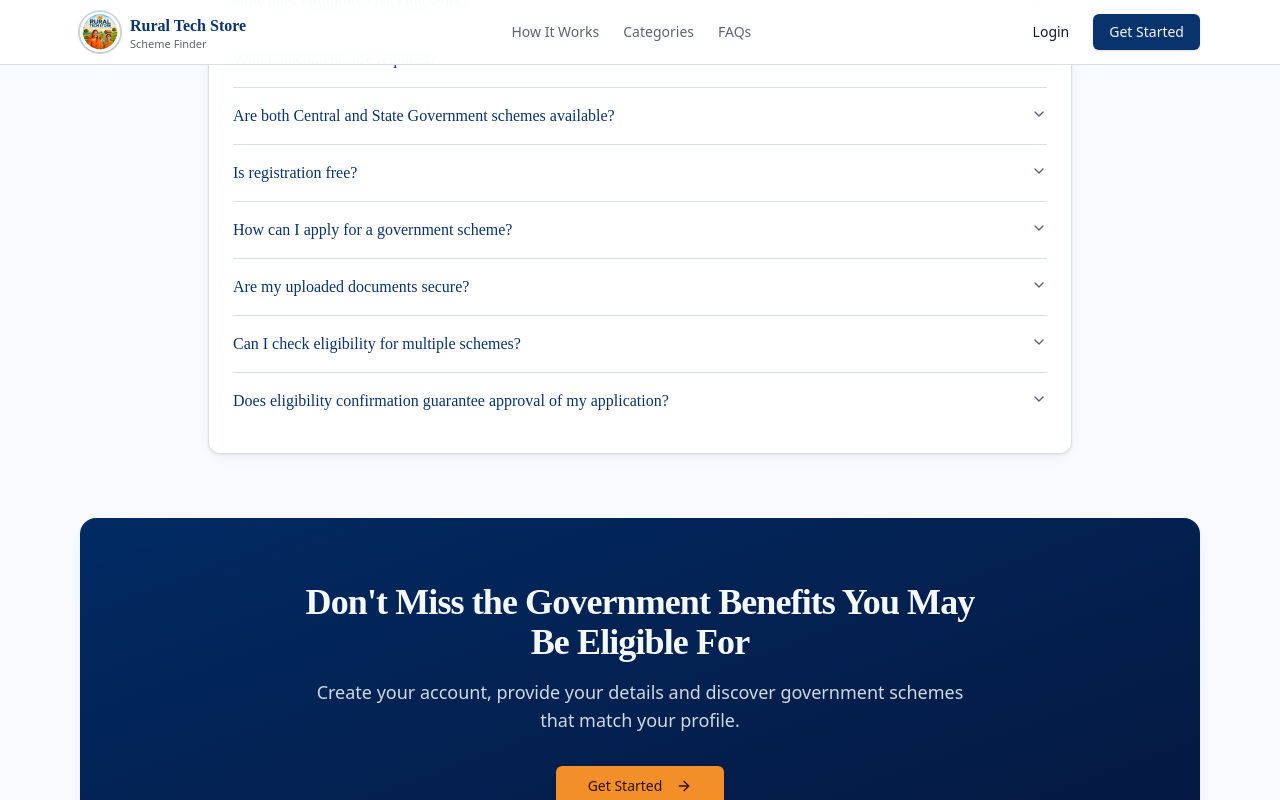
Test: Homepage Enhancement & Public Scheme Browsing › renders all 10 FAQ accordions, Final CTA without Explore Schemes, and Footer with Cookies
(page scrolled)
Expected: the button "Which documents are required?" is shown, [233,30,1047,86]
Expected: the button "Are both Central and State Government schemes available?" is shown, [233,88,1047,144]
Click the button "Does eligibility confirmation guarantee approval of my application?".
click(640, 400)  # box [233,372,1047,428]
(page scrolled)
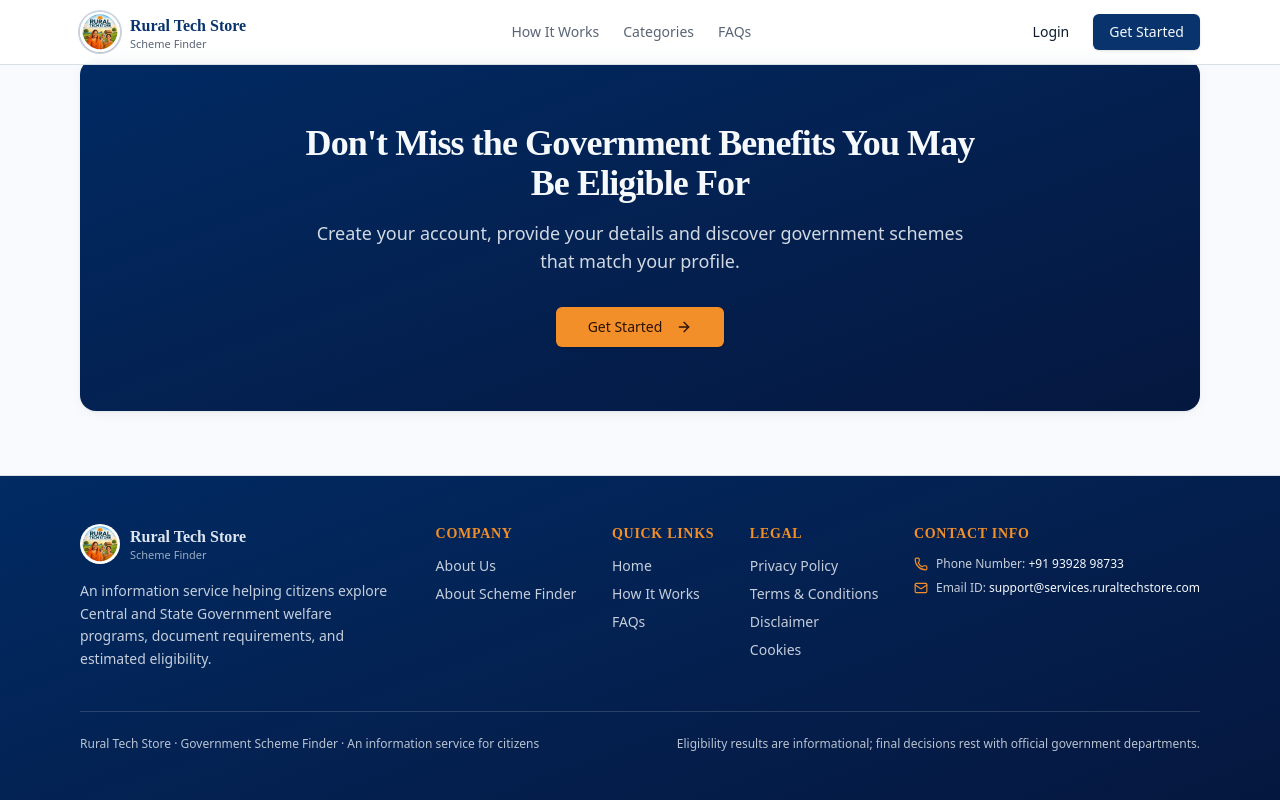
Expected: the heading "Don't Miss the Government Benefits You May Be Eligible For" is shown, [304,123,976,203]
Expected: the element "Don't Miss the Government Benefits You May Be Eligible For" does not show "Explore Schemes", [64,59,1216,475]
Click the button "Cookies".
click(776, 650)  # box [750,640,801,660]
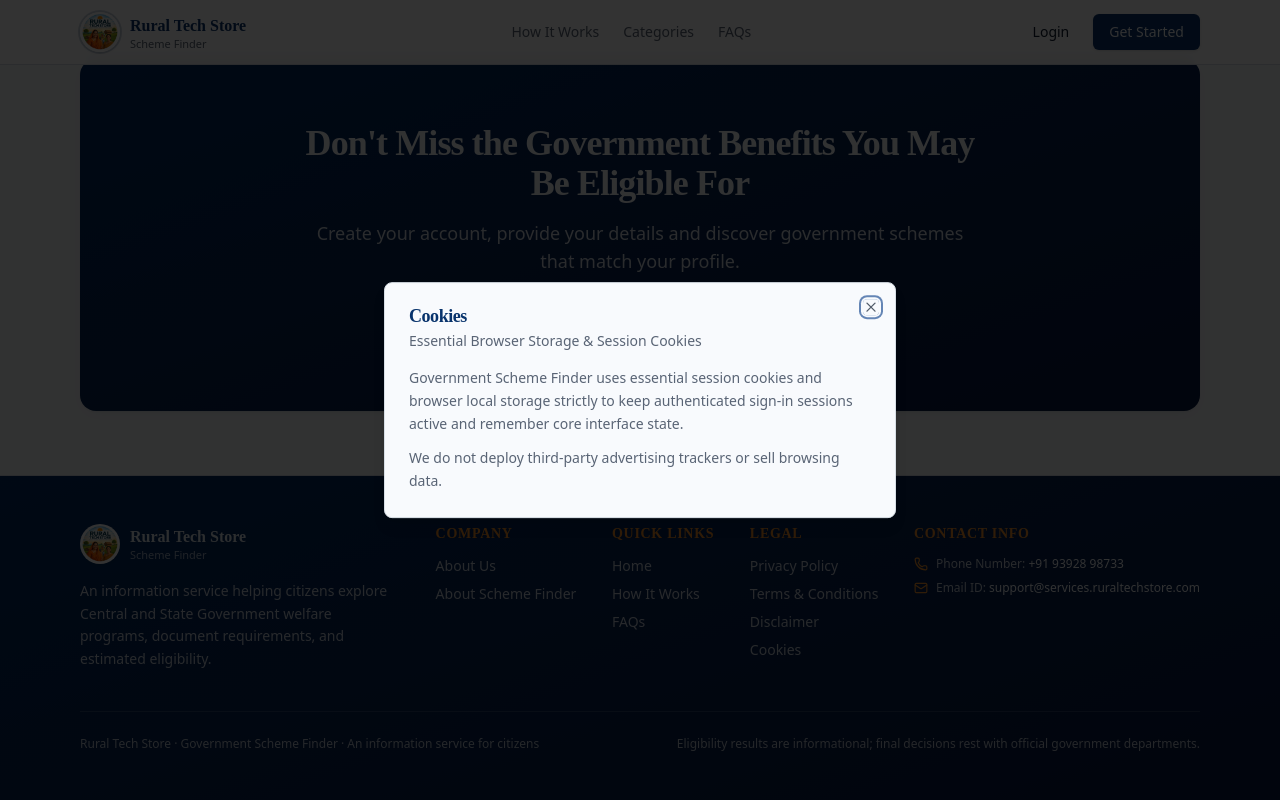
Expected: the text "Essential Browser Storage & Session Cookies" is shown, [409,331,702,350]
